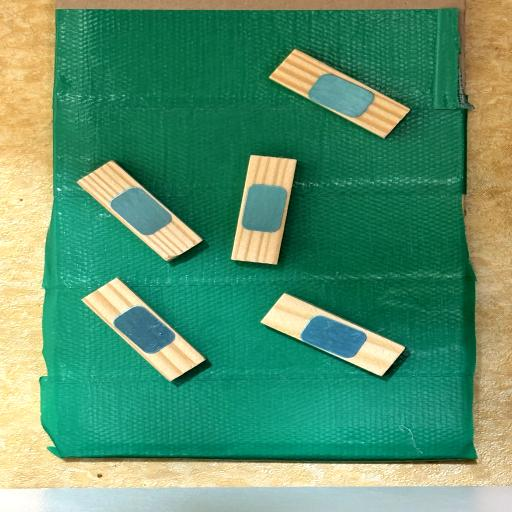objects: (80, 269, 206, 390), (76, 152, 203, 271), (269, 44, 411, 143), (261, 289, 405, 382), (230, 151, 297, 268)
